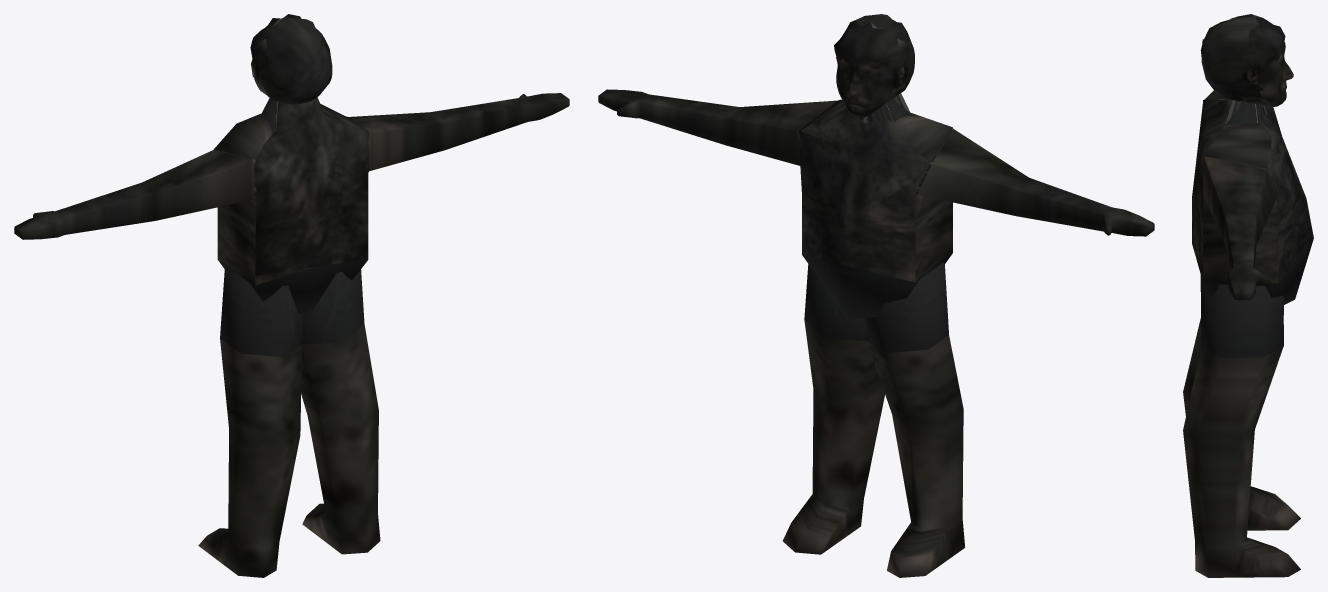
Rendered from WBTolCipularang.fbx.
3 renders of one model, left to right at view 1: azimuth 30°, elevation 25°; view 2: azimuth 150°, elevation 25°; view 3: azimuth 270°, elevation 25°, orthographic.
Parts seen in each view (by area): view 1: Cylinder.027, Cylinder.028, Icosphere.012; view 2: Cylinder.027, Cylinder.028, Icosphere.012; view 3: Cylinder.028, Cylinder.027, Icosphere.012.
Part boxes in pixels (x1,y1,x2,y2): Cylinder.027: (14,93,569,313); Cylinder.028: (198,266,380,577); Icosphere.012: (250,14,332,104); Cylinder.027: (598,89,1154,318); Cylinder.028: (783,262,964,577); Icosphere.012: (834,14,914,117); Cylinder.028: (1183,275,1300,577); Cylinder.027: (1192,90,1313,304); Icosphere.012: (1200,14,1293,107).
Bounding box in the file's own units: 840 × 774 × 173.
